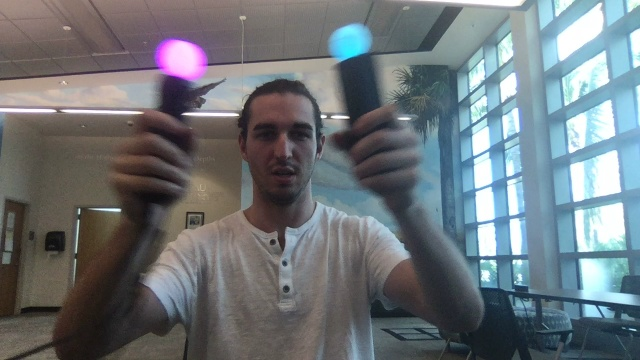wand: (160, 39, 206, 79), (331, 24, 373, 57)
